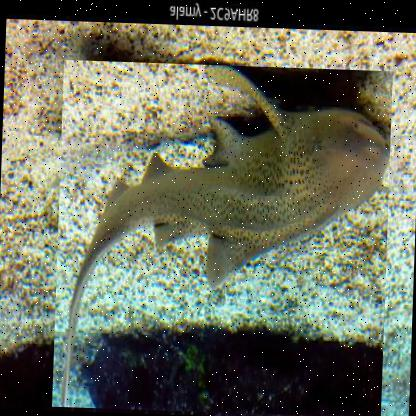zebra_shark: (52, 59, 395, 415)
